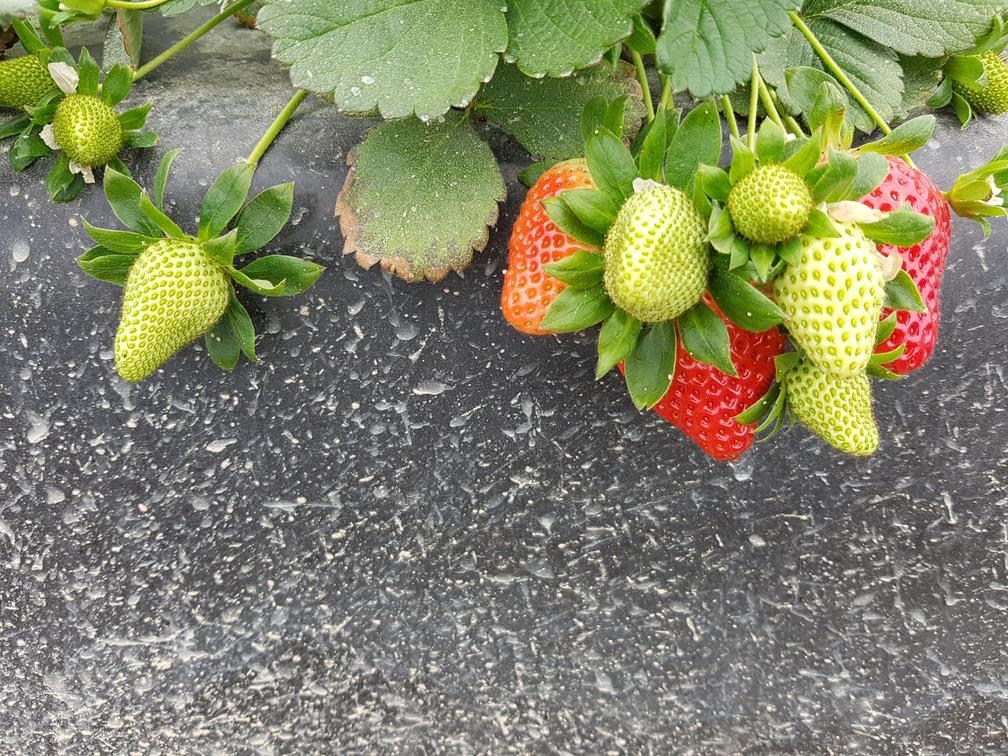Ripe: (615, 326, 793, 468), (501, 156, 606, 335), (880, 154, 946, 378)
Unripe: (109, 234, 243, 394), (603, 175, 719, 327), (770, 236, 890, 376), (789, 375, 889, 455), (728, 160, 810, 243), (55, 95, 124, 168)
